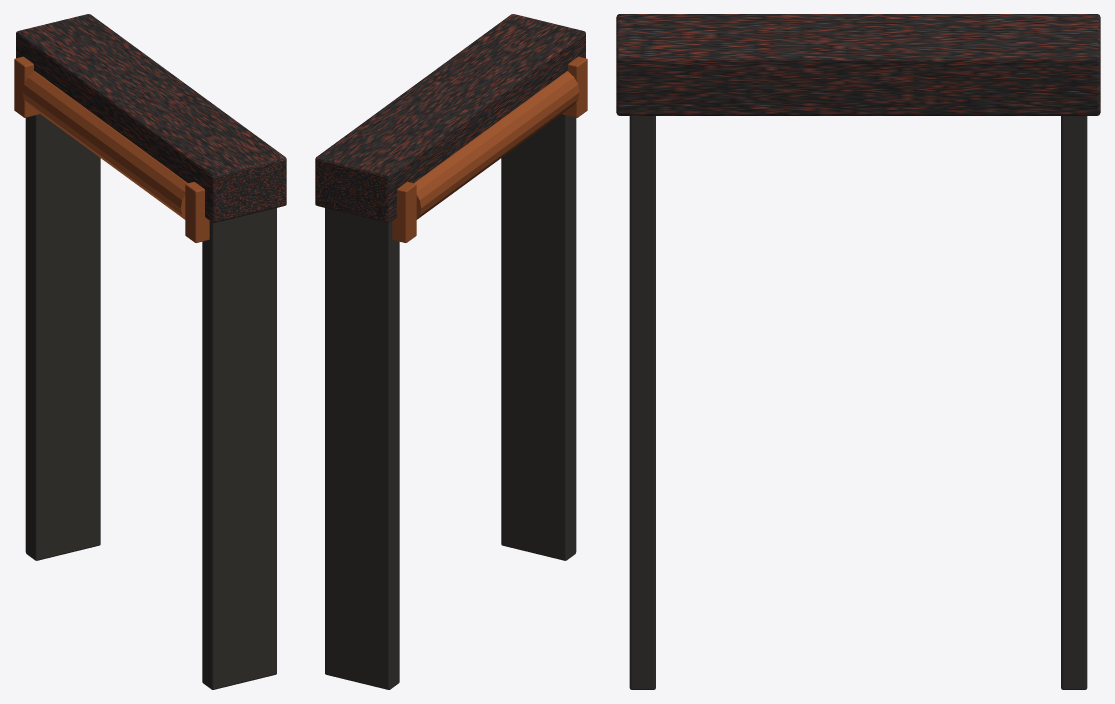
File: shutter_frame.glb
The picture shows the model from 3 angles, left to right: view 1: azimuth 30°, elevation 25°; view 2: azimuth 150°, elevation 25°; view 3: azimuth 270°, elevation 25°; orthographic projection. The views are drawn at different scales.
Parts seen in each view (by area): view 1: Shutter left guide, Shutter right guide, Shutter roller housing, Shutter roller, Roller support, Roller support.001; view 2: Shutter right guide, Shutter left guide, Shutter roller housing, Shutter roller, Roller support.001, Roller support; view 3: Shutter roller housing, Shutter left guide, Shutter right guide.
Part boxes in pixels (x1,y1,x2,y2): Shutter left guide: (202, 208, 276, 689); Shutter right guide: (25, 114, 100, 560); Shutter roller housing: (16, 14, 286, 222); Shutter roller: (22, 71, 187, 219); Roller support: (185, 182, 209, 242); Roller support.001: (14, 56, 40, 117); Shutter right guide: (325, 208, 399, 689); Shutter left guide: (501, 114, 576, 560); Shutter roller housing: (315, 14, 585, 222); Shutter roller: (414, 71, 579, 219); Roller support.001: (392, 182, 416, 242); Roller support: (561, 56, 587, 117); Shutter roller housing: (616, 14, 1100, 115); Shutter left guide: (629, 116, 655, 689); Shutter right guide: (1061, 116, 1087, 689).
Size of the model in its own units: 0.56 by 3.19 by 2.2.
Materials: 3 (1 with a texture image).
